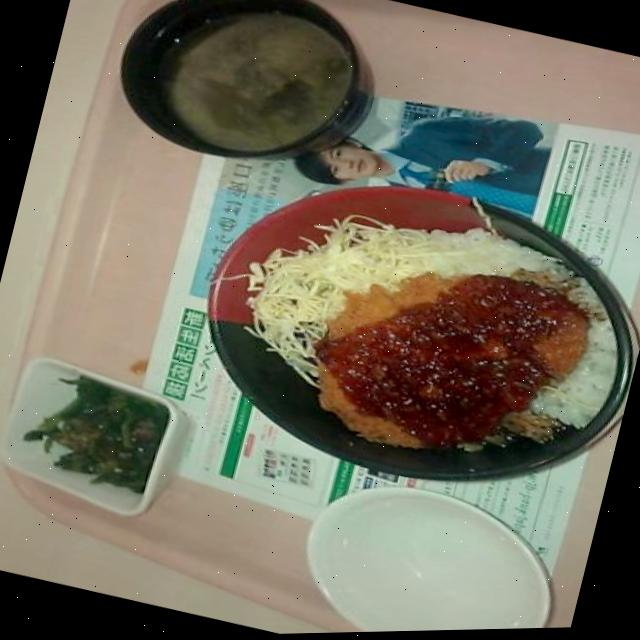汤锅炖物: (87, 0, 415, 205)
